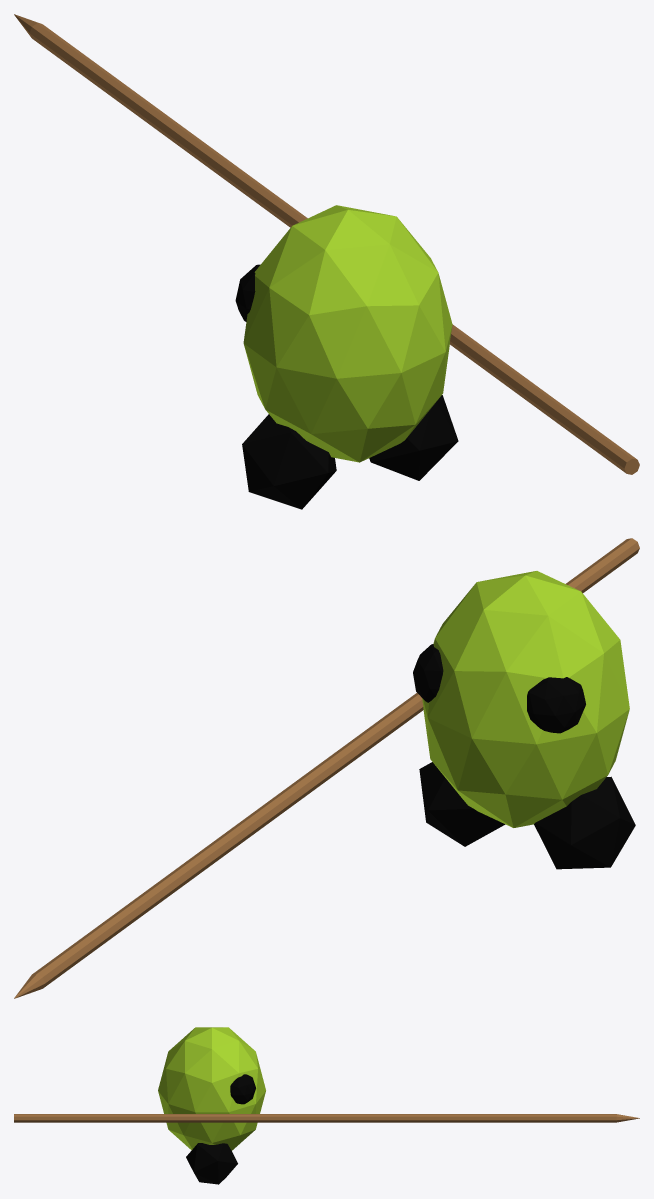
File: stab.f0022.glb
The picture shows the model from 3 angles, top to bottom: view 1: azimuth 30°, elevation 25°; view 2: azimuth 150°, elevation 25°; view 3: azimuth 270°, elevation 25°; orthographic projection. The views are drawn at different scales.
Visible parts, largest first — view 1: Body.001; view 2: Body.001; view 3: Body.001.
Boxes of the visible parts, <box> form: Body.001: <box>14,14,639,509</box>; Body.001: <box>14,538,639,998</box>; Body.001: <box>14,1027,639,1184</box>.
Size of the model in its own units: 2.17 by 2.85 by 11.56.
1 material, 1 textured.
